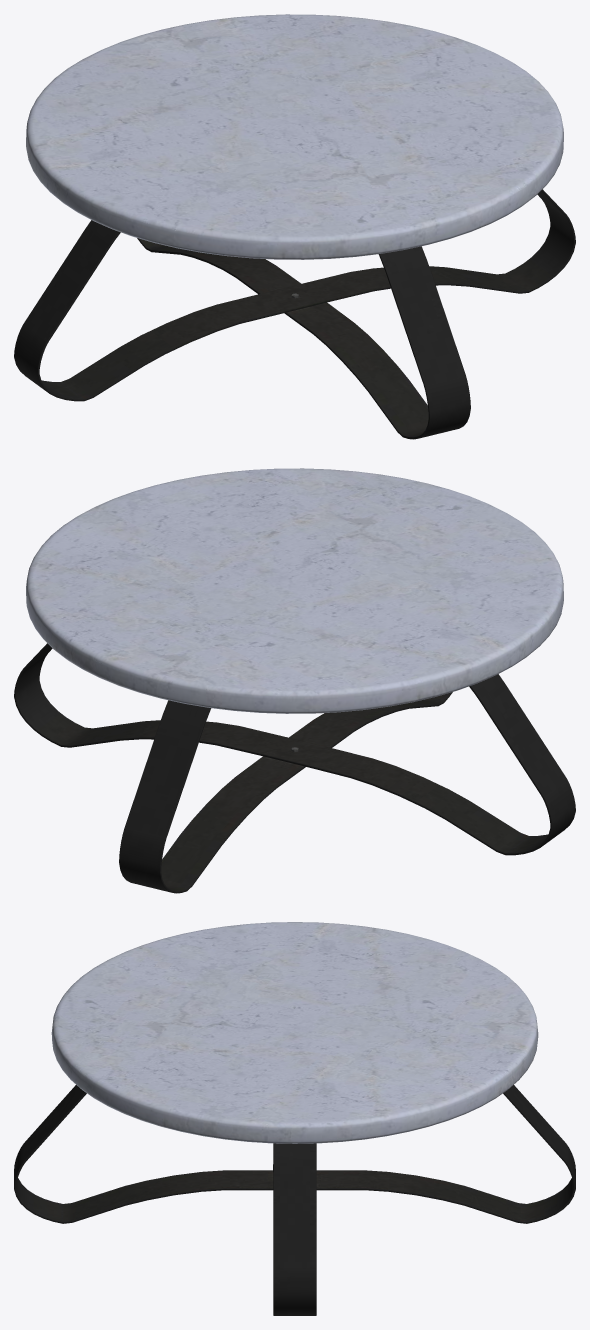
Rendered from test-coffee-table-round-01.ab77ab3f4f.ar.glb.
The picture shows the model from 3 angles, top to bottom: view 1: azimuth 30°, elevation 25°; view 2: azimuth 150°, elevation 25°; view 3: azimuth 270°, elevation 25°; orthographic projection. The views are drawn at different scales.
Visible parts, largest first — view 1: coffee_table_round_01; view 2: coffee_table_round_01; view 3: coffee_table_round_01.
Boxes of the visible parts, <box> form: coffee_table_round_01: <box>14,14,575,439</box>; coffee_table_round_01: <box>14,468,575,893</box>; coffee_table_round_01: <box>14,922,575,1315</box>.
Size of the model in its own units: 1.3 by 0.491 by 1.3.
1 material, 1 textured.
